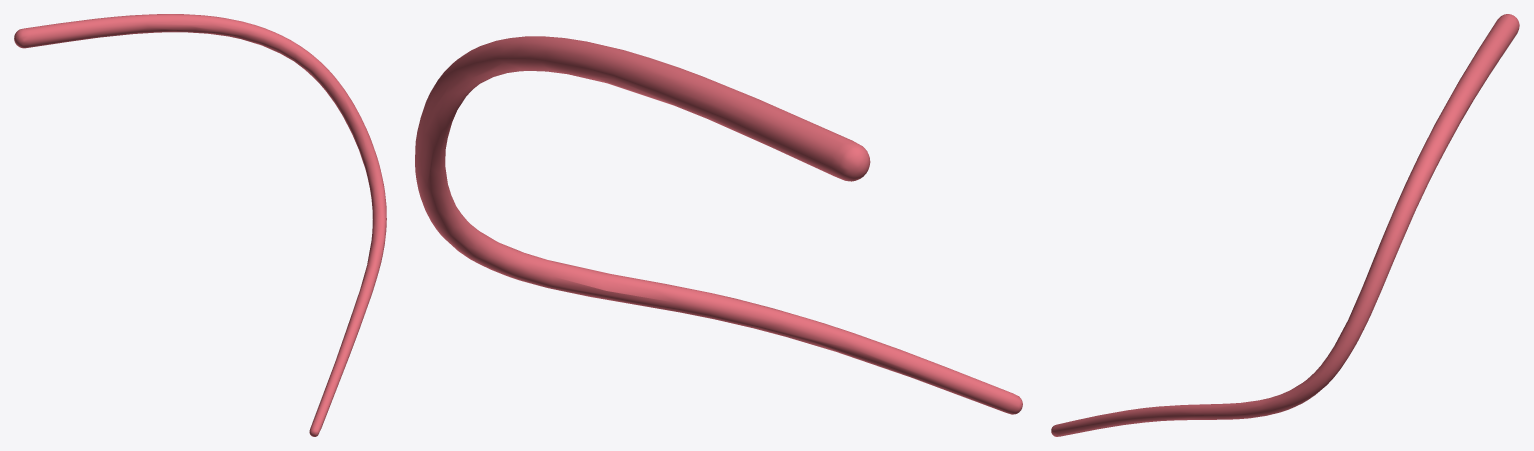
The model's file is fma22586_fj2166.glb.
The picture shows the model from 3 angles, left to right: view 1: azimuth 30°, elevation 25°; view 2: azimuth 150°, elevation 25°; view 3: azimuth 270°, elevation 25°; orthographic projection. The views are drawn at different scales.
Visible parts, largest first — view 1: FMA22586_FJ2166; view 2: FMA22586_FJ2166; view 3: FMA22586_FJ2166.
Boxes of the visible parts, x1,y1,x2,y2 form: FMA22586_FJ2166: [14, 14, 386, 436]; FMA22586_FJ2166: [415, 36, 1022, 414]; FMA22586_FJ2166: [1051, 14, 1519, 436].
Size of the model in its own units: 0.0415 by 0.0406 by 0.0477.
